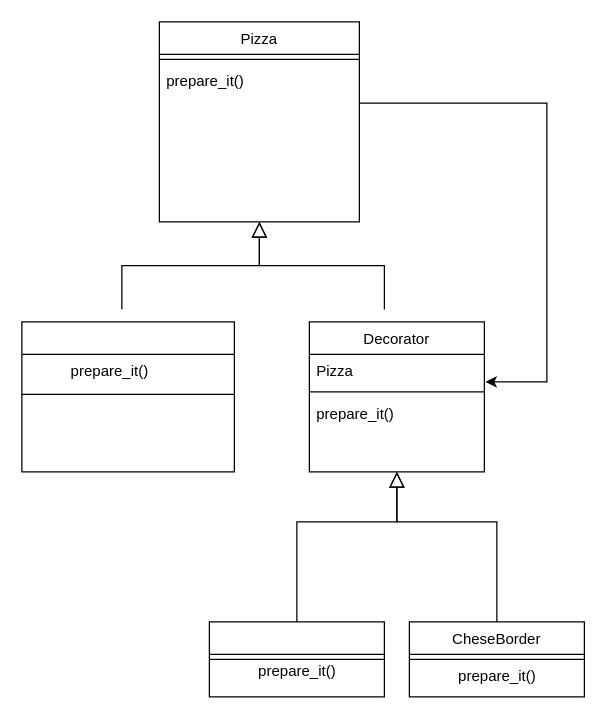
Image size: 606x719. Some labels were removed from this diagram. Here are the shapes that lost their labels. From the top down, the box of each, then its label:
(21, 321, 234, 472): ClassicPizza
(208, 621, 384, 697): ExtraCheese
